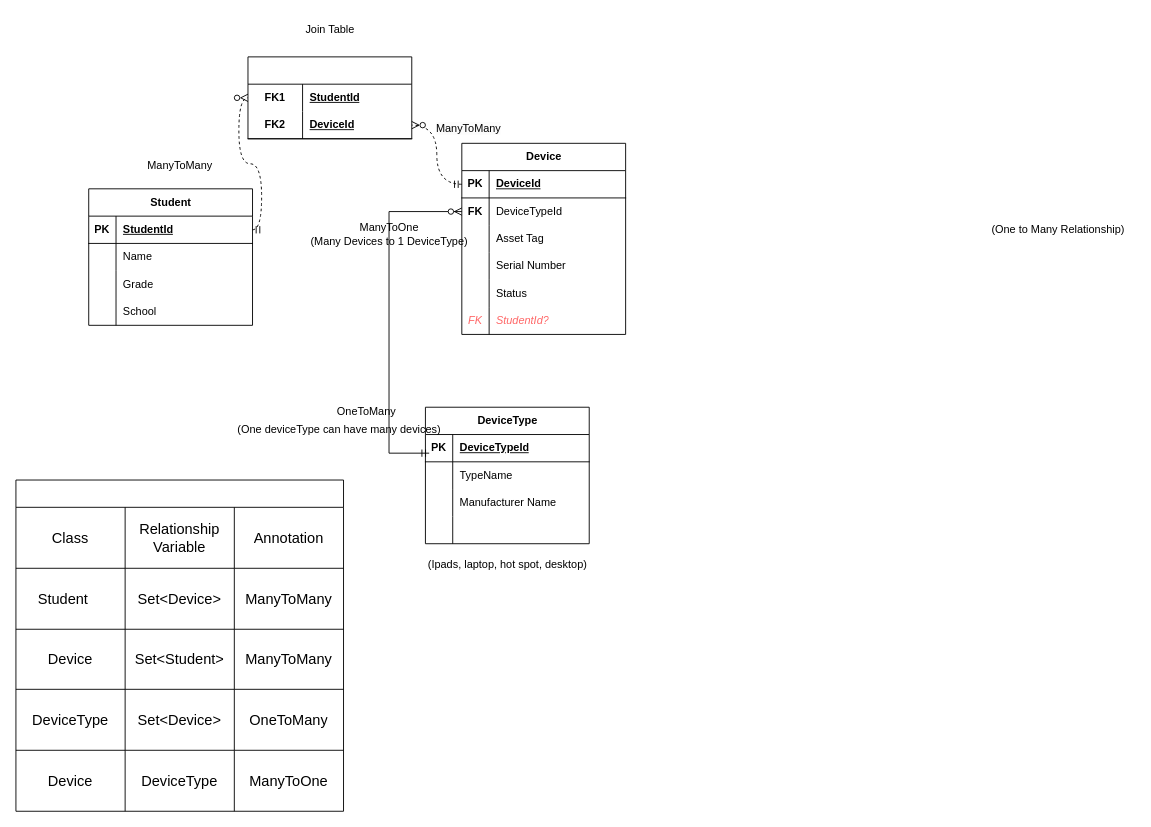
Some shapes in this 1151 by 827 pixel diagram are drawn without their labels. Here are the shapes that lost their labels. From the top down, the box of each, then its label:
(247, 56, 412, 139): Student_Device
(15, 479, 344, 811): Table
